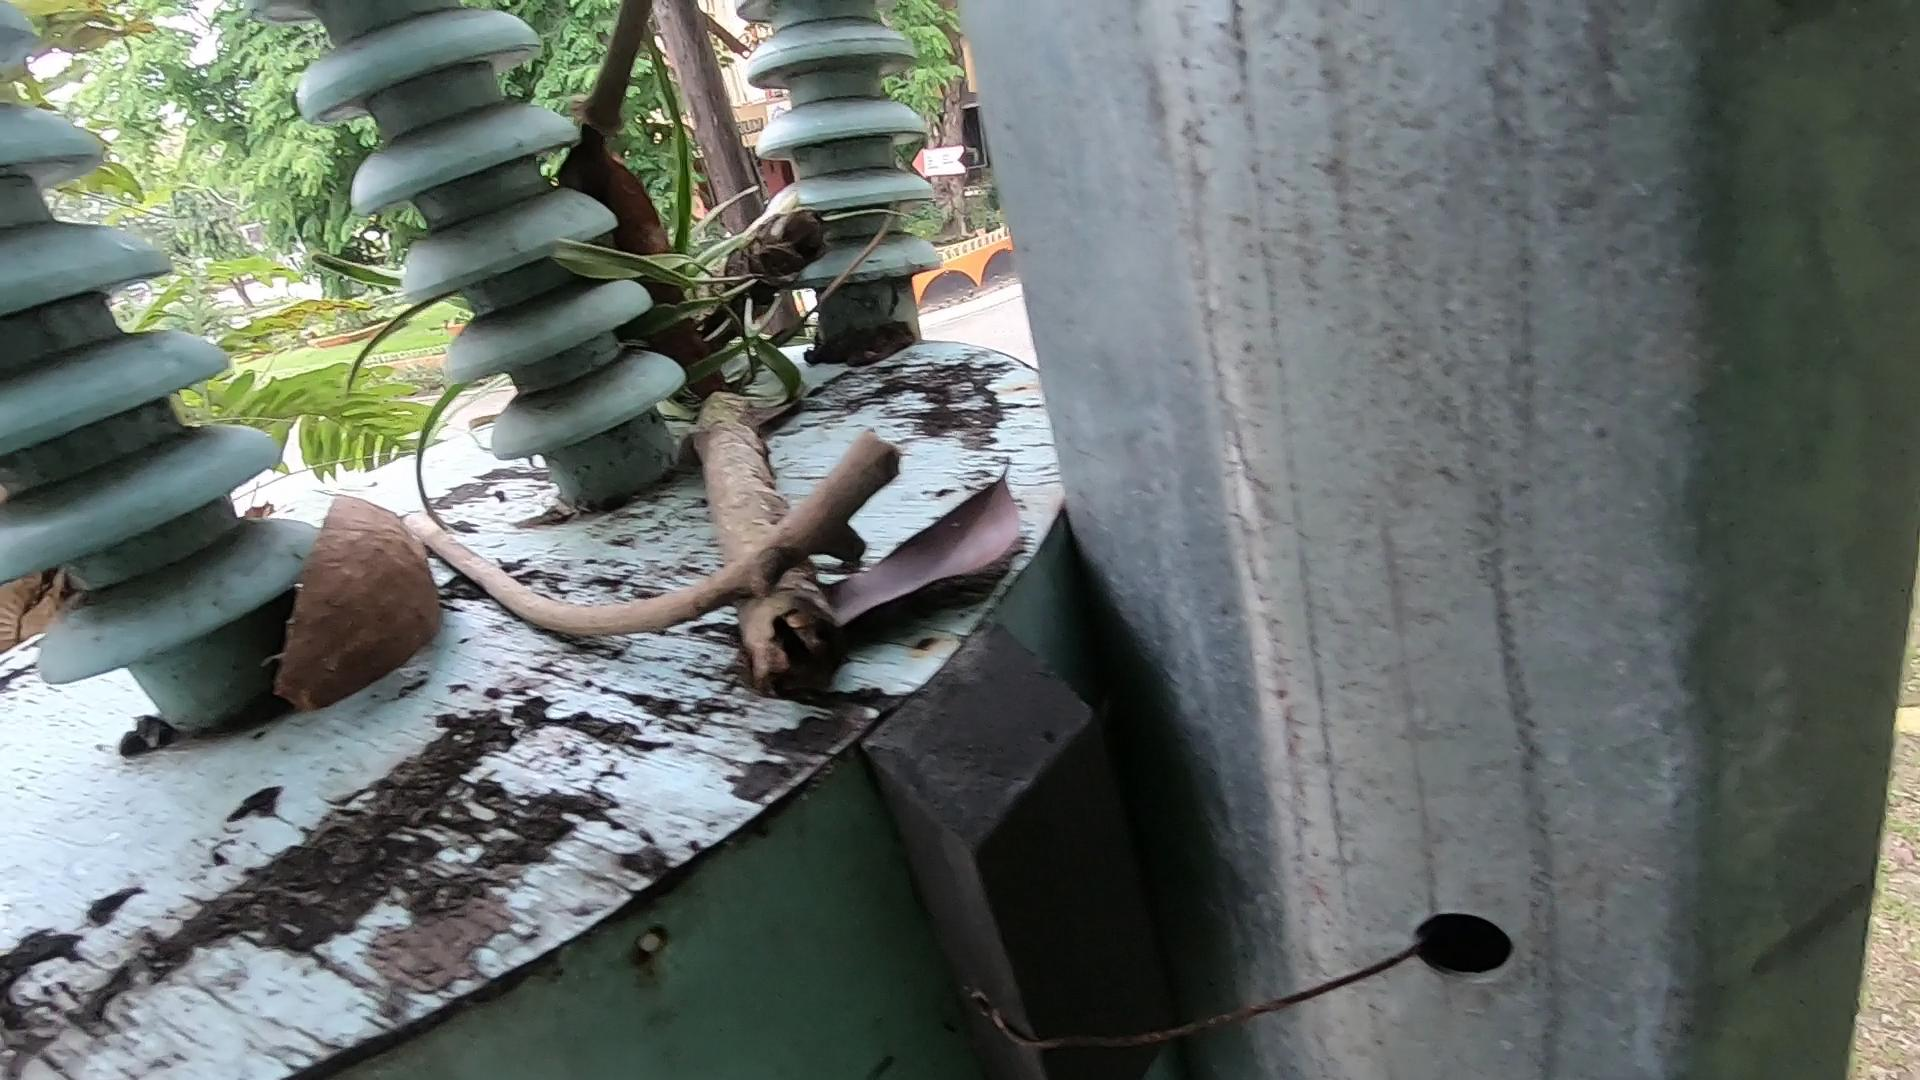branch with leaves: (589, 96, 820, 771)
leaf: (814, 467, 1054, 698)
mahogany fruit: (547, 136, 803, 455), (255, 440, 429, 721)
tree branch: (222, 498, 1006, 674), (520, 1, 723, 236)
